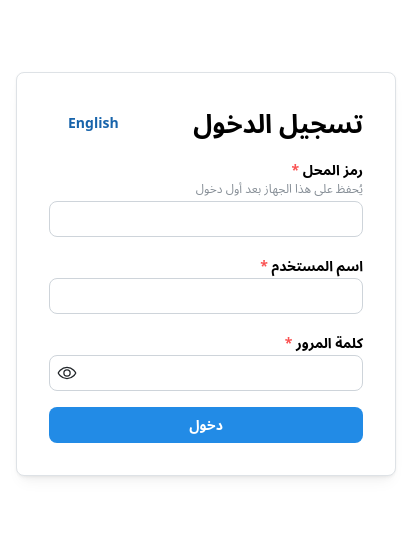
login › shows the translated error for bad credentials and clears the password
The image size is (413, 552).
In the field labelled "رمز المحل": (206, 219) [49,201,363,237], type "sky-motors"
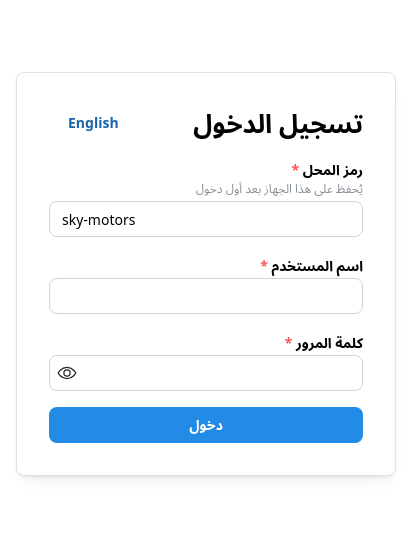
In the field labelled "اسم المستخدم": (206, 296) [49,278,363,314], type "owner"
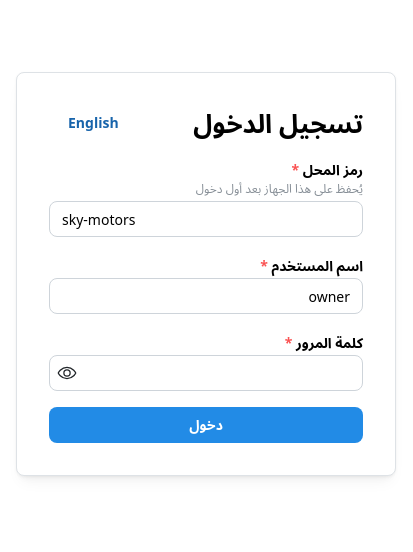
In the password field labelled "كلمة المرور": (206, 373) [50,356,362,390], type "wrong"
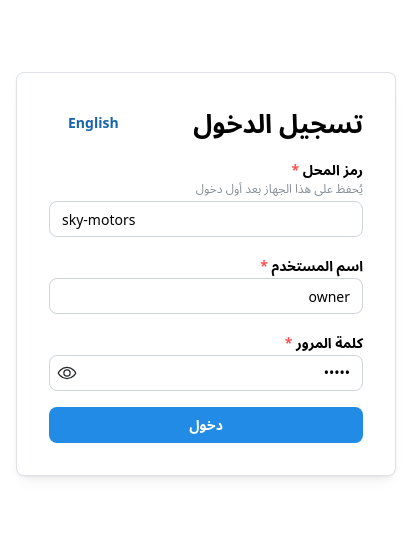
Click the button "دخول": (206, 425) [49,407,363,443]
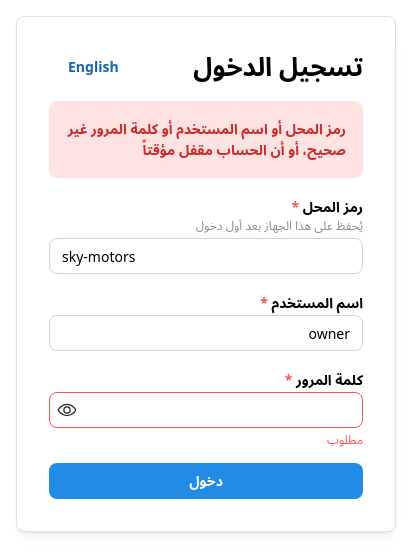
Expected: the message reads "رمز المحل أو اسم المستخدم أو كلمة المرور غير صحيح، أو أن الحساب مقفل مؤقتاً", [68,119,346,159]
Expected: the password field labelled "كلمة المرور" is empty, [50,393,362,427]
